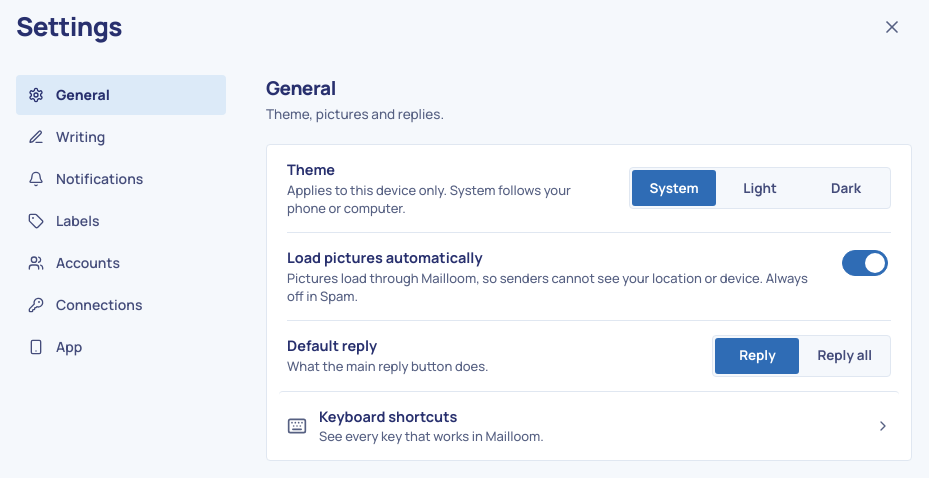
Test case: Settings on a desktop › shows sections on the left and the content on the right; switching sections and Escape work
This screenshot has width=929, height=478.
Later steps or results of the test are not shown.
Check: the heading "General" is shown, box [266,75,336,101]
Step 1. Click the button "Accounts" → (121, 263), box [16,243,226,283]
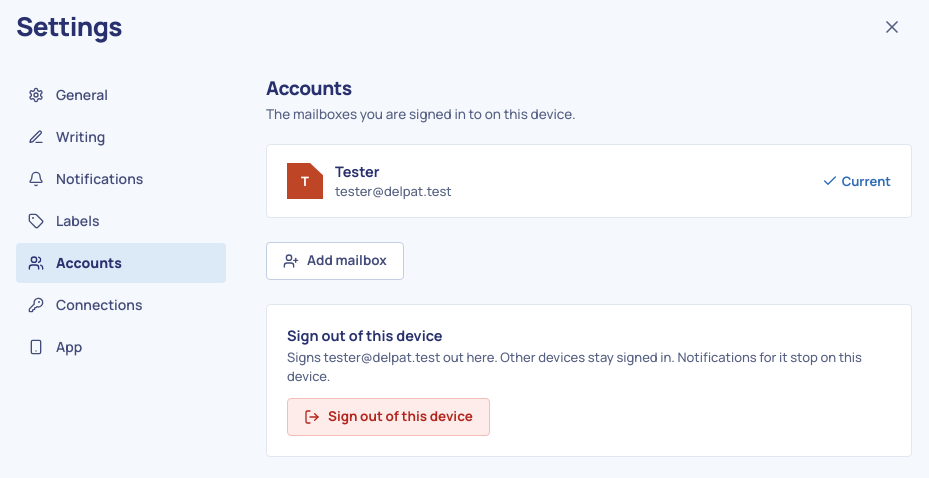
Check: the heading "Accounts" is shown, box [266,75,352,101]
Check: the text "tester@delpat.test" is shown, box [335,182,452,200]
